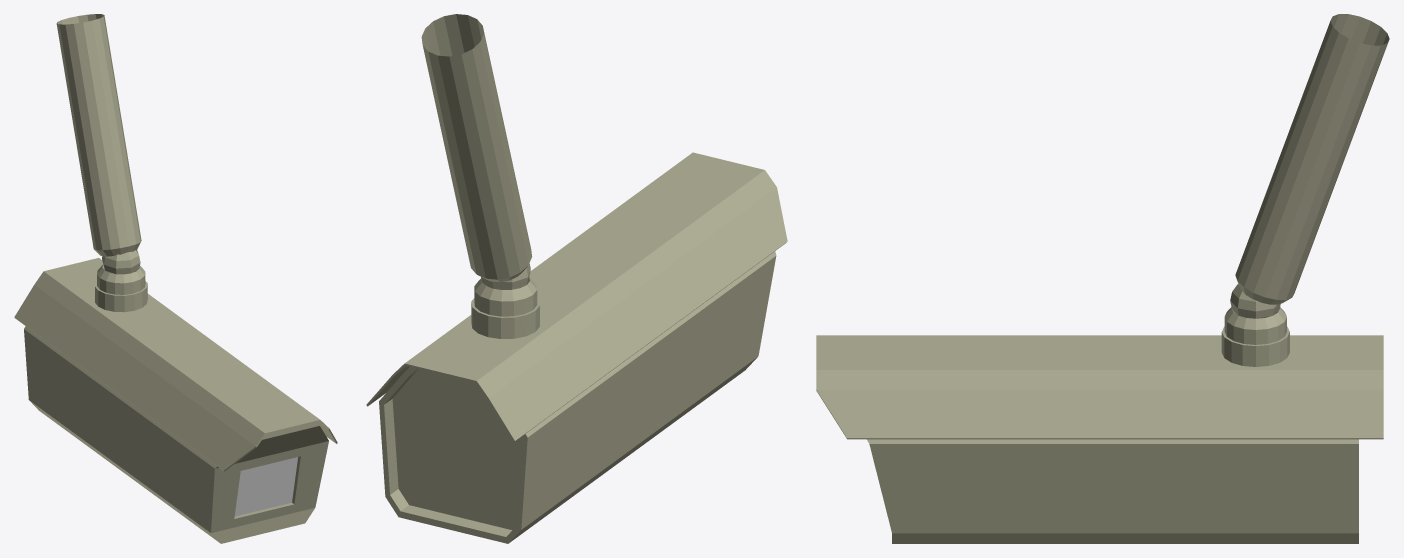
Rendered from camara.fbx.
3 views of the same model, side by side, from view 1: azimuth 30°, elevation 25°; view 2: azimuth 150°, elevation 25°; view 3: azimuth 270°, elevation 25° (orthographic). The views are drawn at different scales.
Visible parts, largest first — view 1: SecurityCamera; view 2: SecurityCamera; view 3: SecurityCamera.
Part boxes in pixels (box(x1,y1,x2,y2)): SecurityCamera: box(14, 14, 337, 543); SecurityCamera: box(366, 14, 787, 543); SecurityCamera: box(816, 14, 1389, 543).
Bounding box in the file's own units: 10.73 × 34.79 × 36.37.
